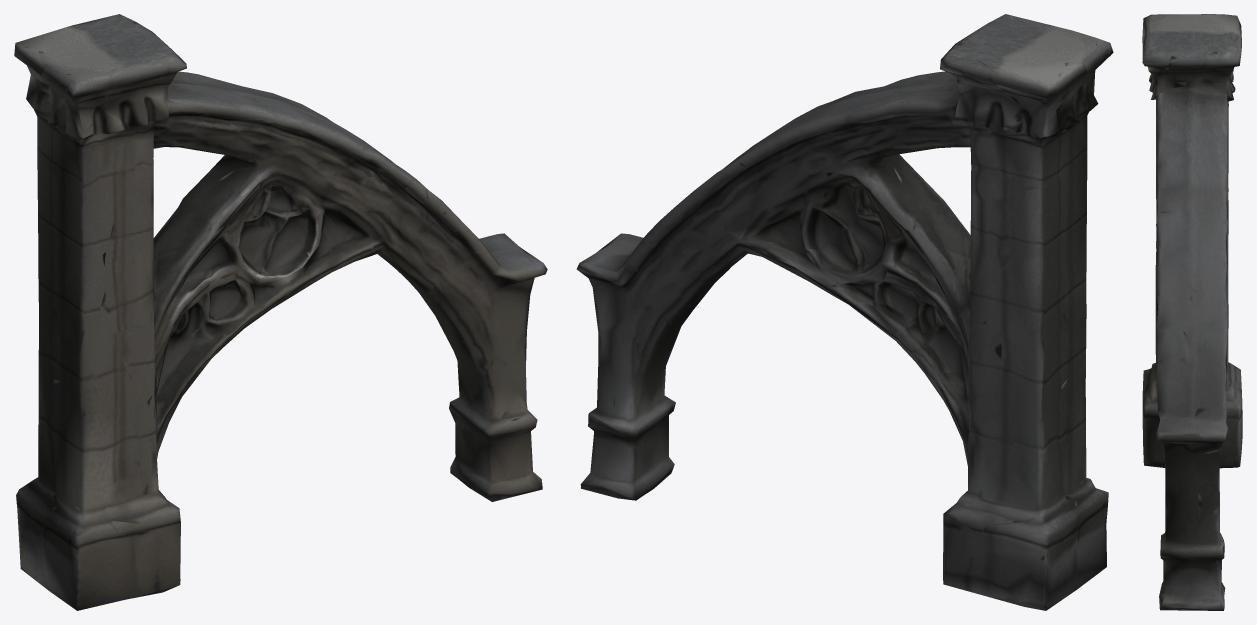
File: buttress.glb
3 views of the same model, side by side, from view 1: azimuth 30°, elevation 25°; view 2: azimuth 150°, elevation 25°; view 3: azimuth 270°, elevation 25° (orthographic). The views are drawn at different scales.
Bounding box in the file's own units: 1.91 × 2 × 0.4348.
1 material, 1 textured.
